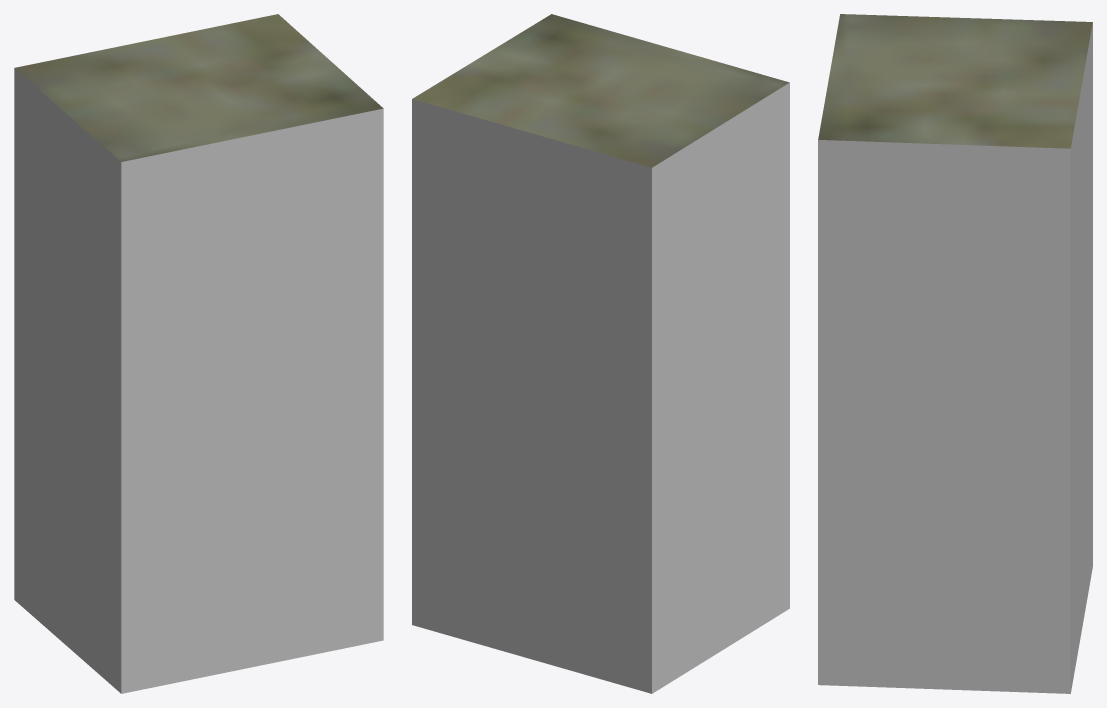
Rendered from DEBW_0010007Tvkf.gltf.
3 renders of one model, left to right at view 1: azimuth 30°, elevation 25°; view 2: azimuth 150°, elevation 25°; view 3: azimuth 270°, elevation 25°, orthographic. The views are drawn at different scales.
Parts seen in each view (by area): view 1: Z_UP; view 2: Z_UP; view 3: Z_UP.
Part boxes in pixels (<box>): Z_UP: <box>14,14,383,693</box>; Z_UP: <box>412,14,789,693</box>; Z_UP: <box>818,14,1092,693</box>.
Bounding box in the file's own units: 3.18 × 6 × 2.74.
Materials: 2 (1 with a texture image).
